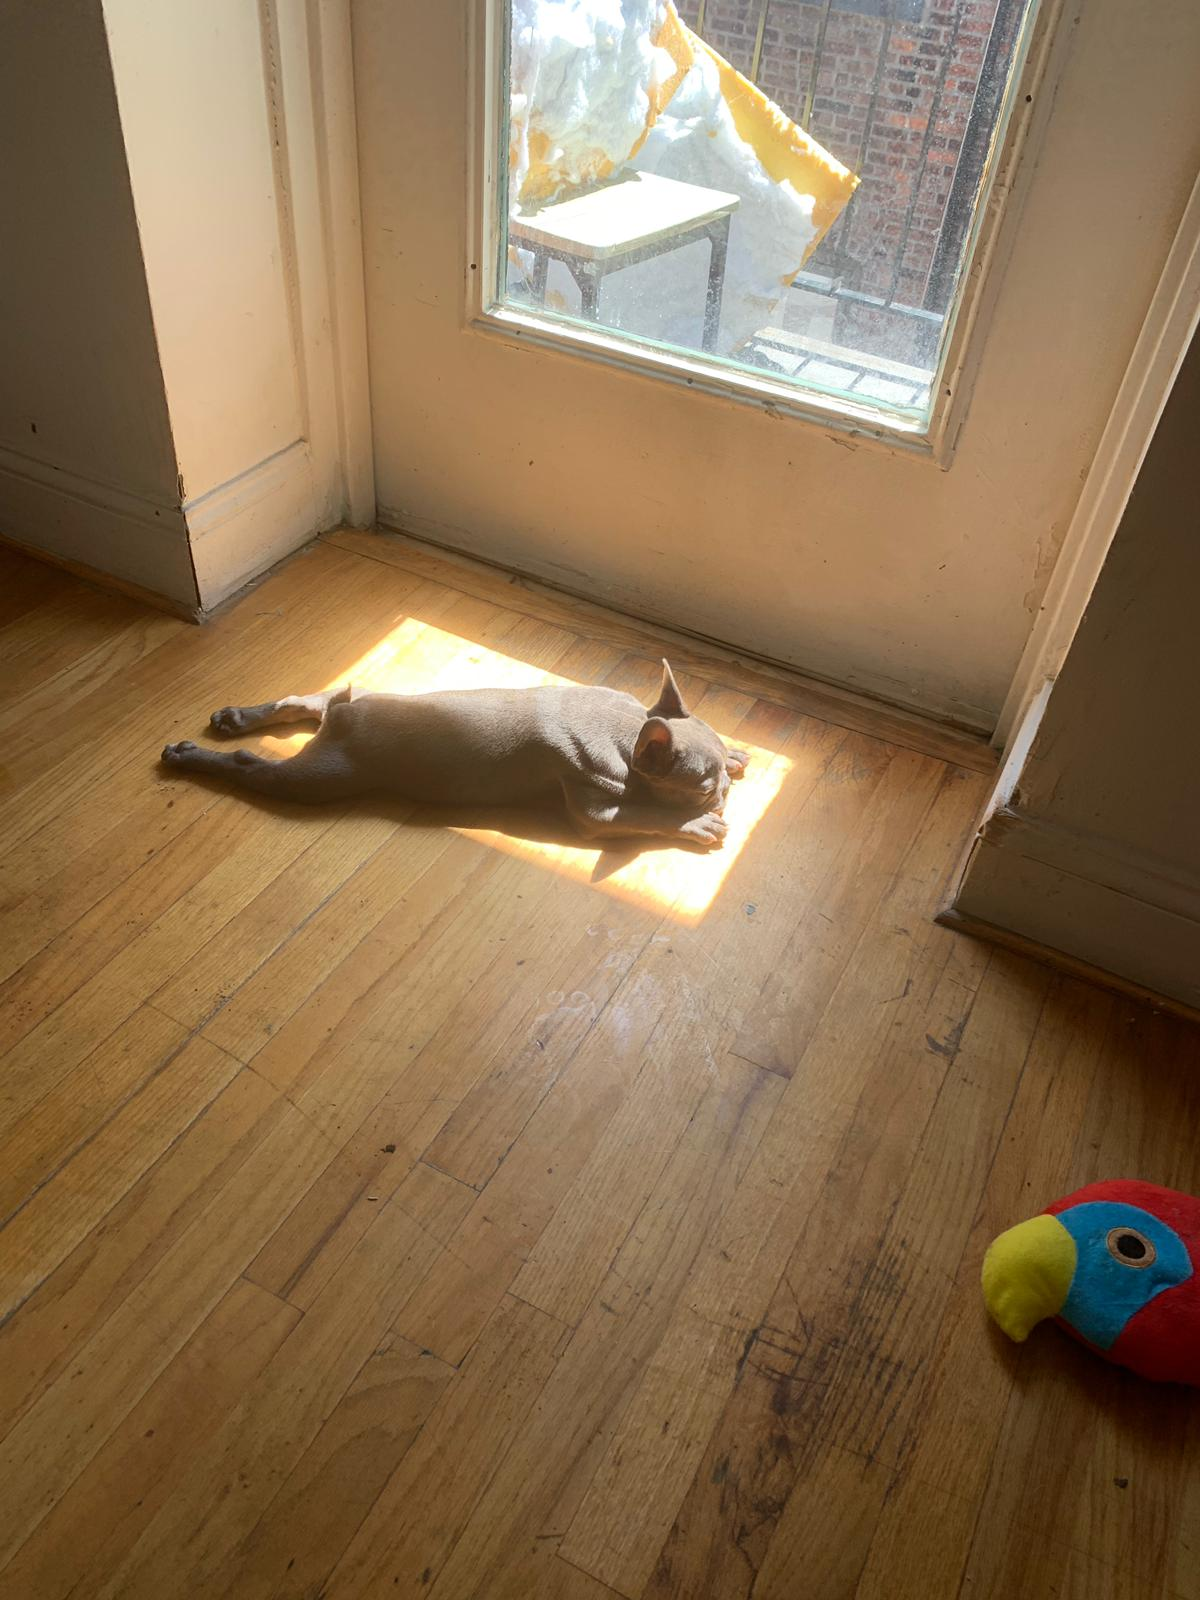lucy: (142, 651, 753, 860)
